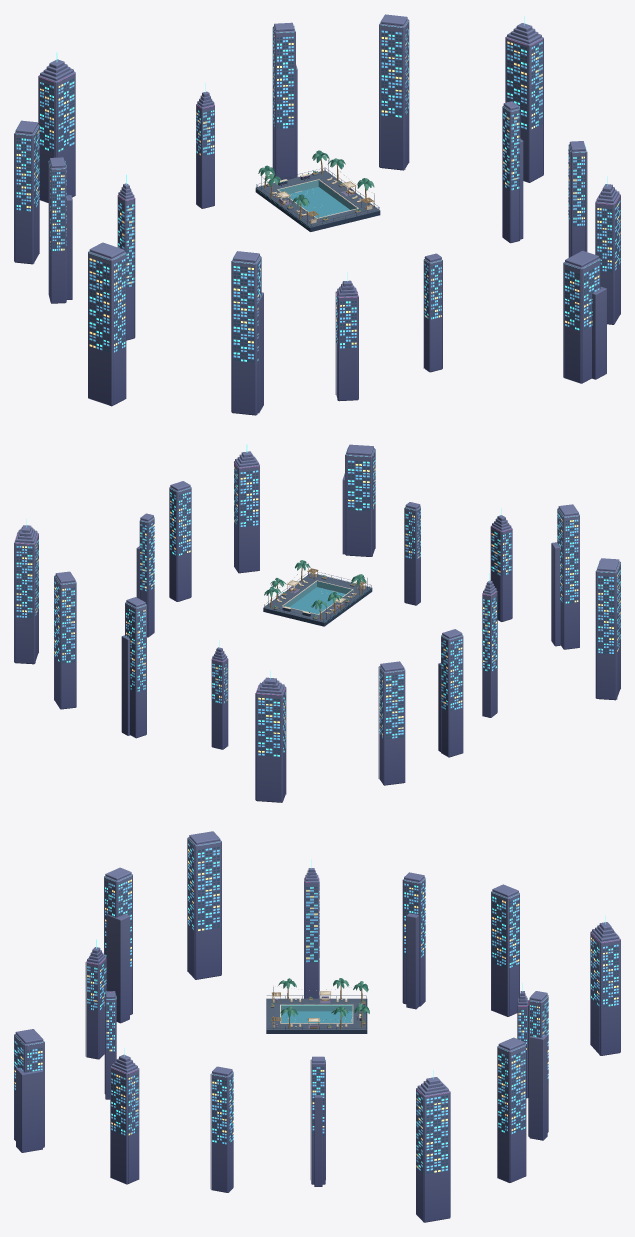
Rendered from city.glb.
3 views of the same model, one above another, from view 1: azimuth 30°, elevation 25°; view 2: azimuth 150°, elevation 25°; view 3: azimuth 270°, elevation 25° (orthographic). The views are drawn at different scales.
Parts seen in each view (by area): view 1: Architecture, Pool floor, Wind; view 2: Architecture, Pool floor, Wind; view 3: Architecture, Pool floor, Wind.
Part boxes in pixels (bbox=[...]): Architecture: bbox=[14, 14, 620, 415]; Pool floor: bbox=[288, 187, 349, 217]; Wind: bbox=[258, 150, 374, 218]; Architecture: bbox=[14, 444, 620, 802]; Pool floor: bbox=[290, 587, 345, 614]; Wind: bbox=[264, 560, 366, 617]; Architecture: bbox=[14, 831, 620, 1222]; Pool floor: bbox=[281, 1011, 352, 1022]; Wind: bbox=[270, 978, 369, 1026].
Bounding box in the file's own units: 212 × 57.6 × 212.
